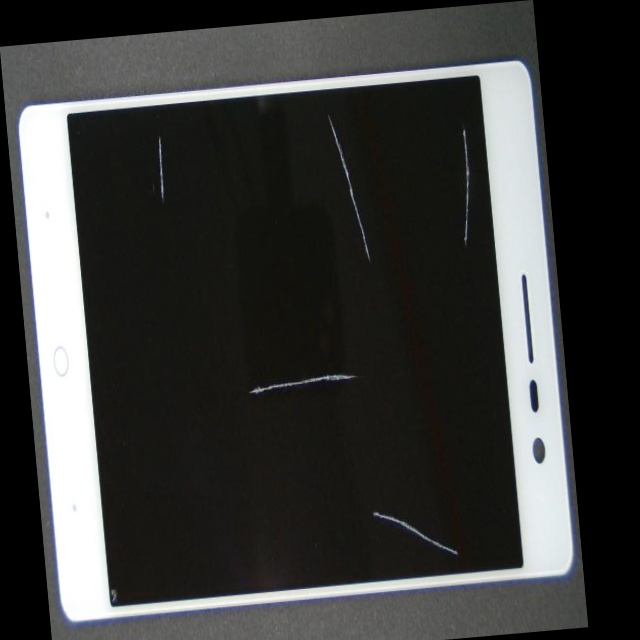scratch: (283, 293, 588, 640), (240, 194, 493, 557), (247, 79, 550, 214), (207, 140, 532, 255), (74, 35, 231, 223)
